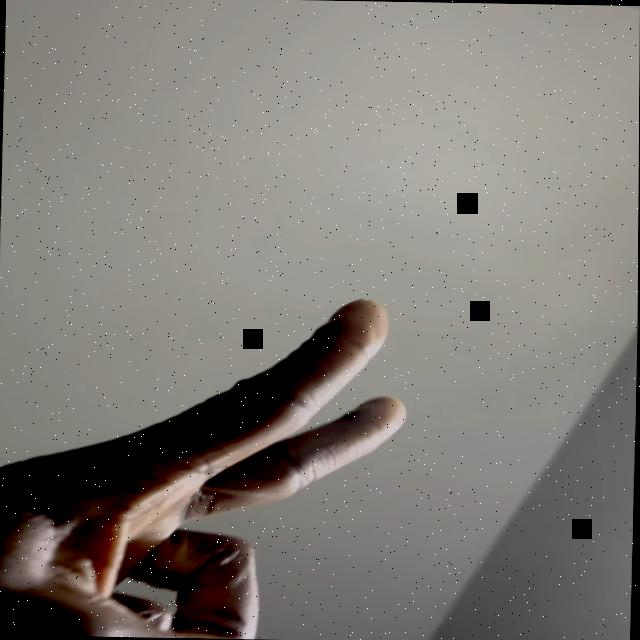Scissors: (0, 290, 409, 640)
